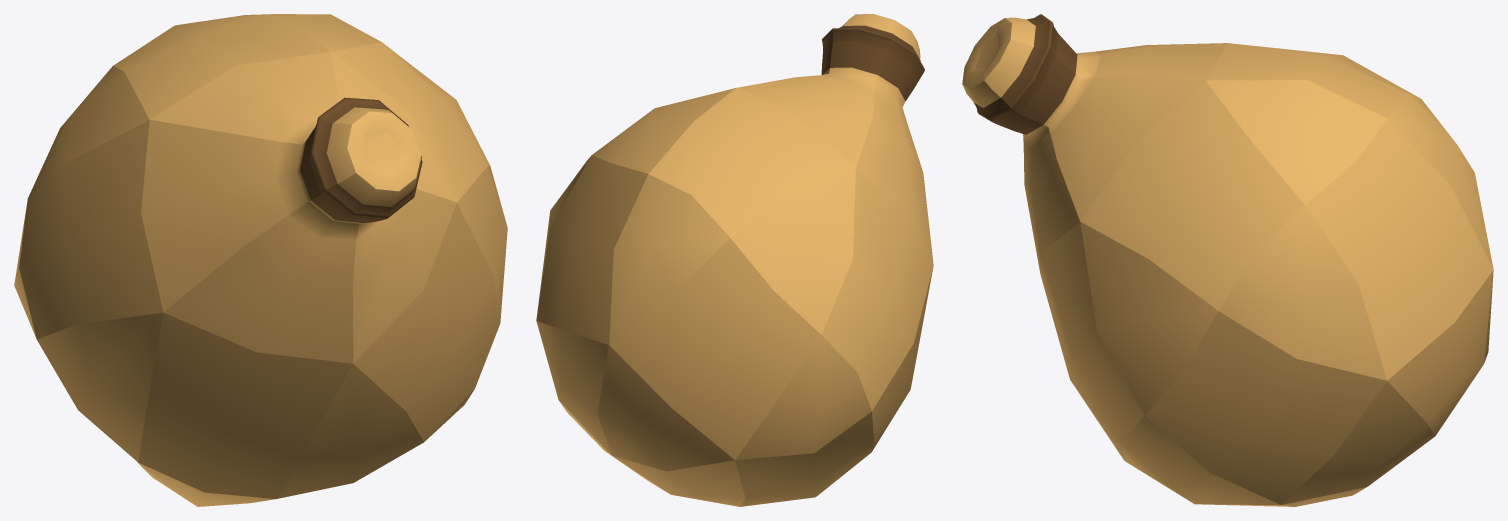
File: env-bag.fbx
The picture shows the model from 3 angles, left to right: view 1: azimuth 30°, elevation 25°; view 2: azimuth 150°, elevation 25°; view 3: azimuth 270°, elevation 25°; orthographic projection. The views are drawn at different scales.
Parts seen in each view (by area): view 1: Icosphere.207; view 2: Icosphere.207; view 3: Icosphere.207.
Part boxes in pixels (x1,y1,x2,y2): Icosphere.207: (14,14,507,506); Icosphere.207: (536,14,933,506); Icosphere.207: (962,14,1493,506).
Bounding box in the file's own units: 65.44 × 73.06 × 77.16.
